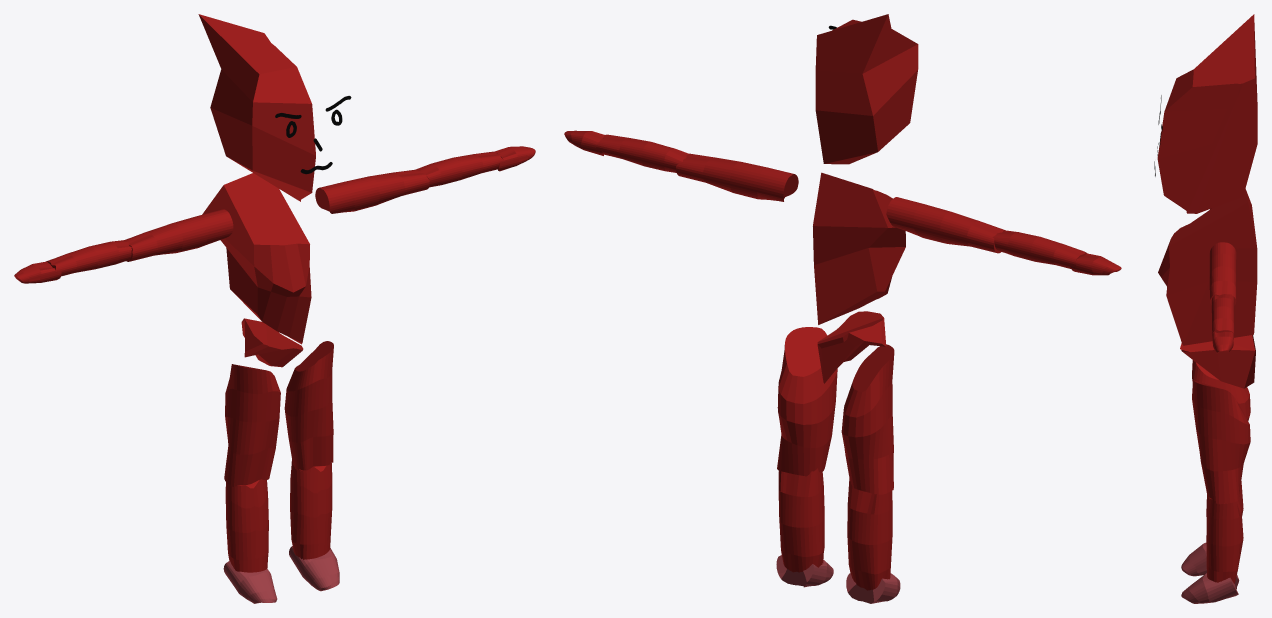
File: demonlady.glb
3 renders of one model, left to right at view 1: azimuth 30°, elevation 25°; view 2: azimuth 150°, elevation 25°; view 3: azimuth 270°, elevation 25°, orthographic. The views are drawn at different scales.
Visible parts, largest first — view 1: Head, Troso, Cylinder.011, Cylinder.006, Cylinder.007, Cylinder.010, Cylinder.005, Cylinder, Pelvis, Cylinder.001, Cylinder.004, Cylinder.009 (+3 smaller); view 2: Head, Troso, Cylinder.006, Cylinder.011, Cylinder.007, Cylinder.010, Cylinder.005, Cylinder, Pelvis, Cylinder.001, Cylinder.004, Cylinder.009 (+2 smaller); view 3: Head, Troso, Cylinder.006, Cylinder.007, Pelvis, Cylinder.005, Cylinder.008, Cylinder.011, Cylinder.004, Cylinder.009, Cylinder.003.
Boxes of the visible parts, x1=… form: Head: x1=198, y1=14, x2=315, y2=201; Troso: x1=202, y1=173, x2=311, y2=344; Cylinder.011: x1=224, y1=364, x2=280, y2=486; Cylinder.006: x1=284, y1=341, x2=333, y2=470; Cylinder.007: x1=290, y1=459, x2=332, y2=559; Cylinder.010: x1=225, y1=479, x2=268, y2=572; Cylinder.005: x1=315, y1=169, x2=429, y2=213; Cylinder: x1=125, y1=209, x2=233, y2=261; Pelvis: x1=241, y1=318, x2=303, y2=367; Cylinder.001: x1=46, y1=240, x2=131, y2=276; Cylinder.004: x1=415, y1=151, x2=504, y2=187; Cylinder.009: x1=223, y1=561, x2=277, y2=603; Head: x1=815, y1=14, x2=918, y2=164; Troso: x1=813, y1=172, x2=905, y2=324; Cylinder.006: x1=777, y1=327, x2=837, y2=476; Cylinder.011: x1=841, y1=344, x2=894, y2=494; Cylinder.007: x1=778, y1=468, x2=824, y2=572; Cylinder.010: x1=847, y1=478, x2=892, y2=590; Cylinder.005: x1=676, y1=153, x2=798, y2=201; Cylinder: x1=886, y1=197, x2=1004, y2=253; Pelvis: x1=817, y1=311, x2=886, y2=383; Cylinder.001: x1=992, y1=230, x2=1086, y2=268; Cylinder.004: x1=596, y1=134, x2=688, y2=172; Cylinder.009: x1=846, y1=573, x2=900, y2=603; Head: x1=1157, y1=14, x2=1257, y2=213; Troso: x1=1158, y1=189, x2=1257, y2=345; Cylinder.006: x1=1192, y1=380, x2=1250, y2=504; Cylinder.007: x1=1206, y1=497, x2=1243, y2=583; Pelvis: x1=1180, y1=335, x2=1255, y2=388; Cylinder.005: x1=1209, y1=242, x2=1236, y2=305; Cylinder.008: x1=1181, y1=573, x2=1239, y2=603; Cylinder.011: x1=1192, y1=360, x2=1250, y2=420; Cylinder.004: x1=1211, y1=294, x2=1234, y2=334; Cylinder.009: x1=1181, y1=542, x2=1206, y2=576; Cylinder.003: x1=1212, y1=331, x2=1233, y2=353.
Bounding box in the file's own units: 7.36 × 7.78 × 1.4.
3 materials, 1 textured.
